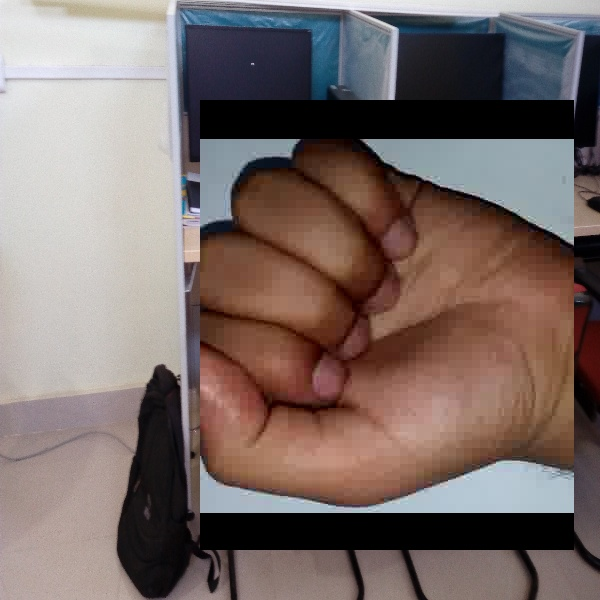A: (200, 100, 574, 550)
